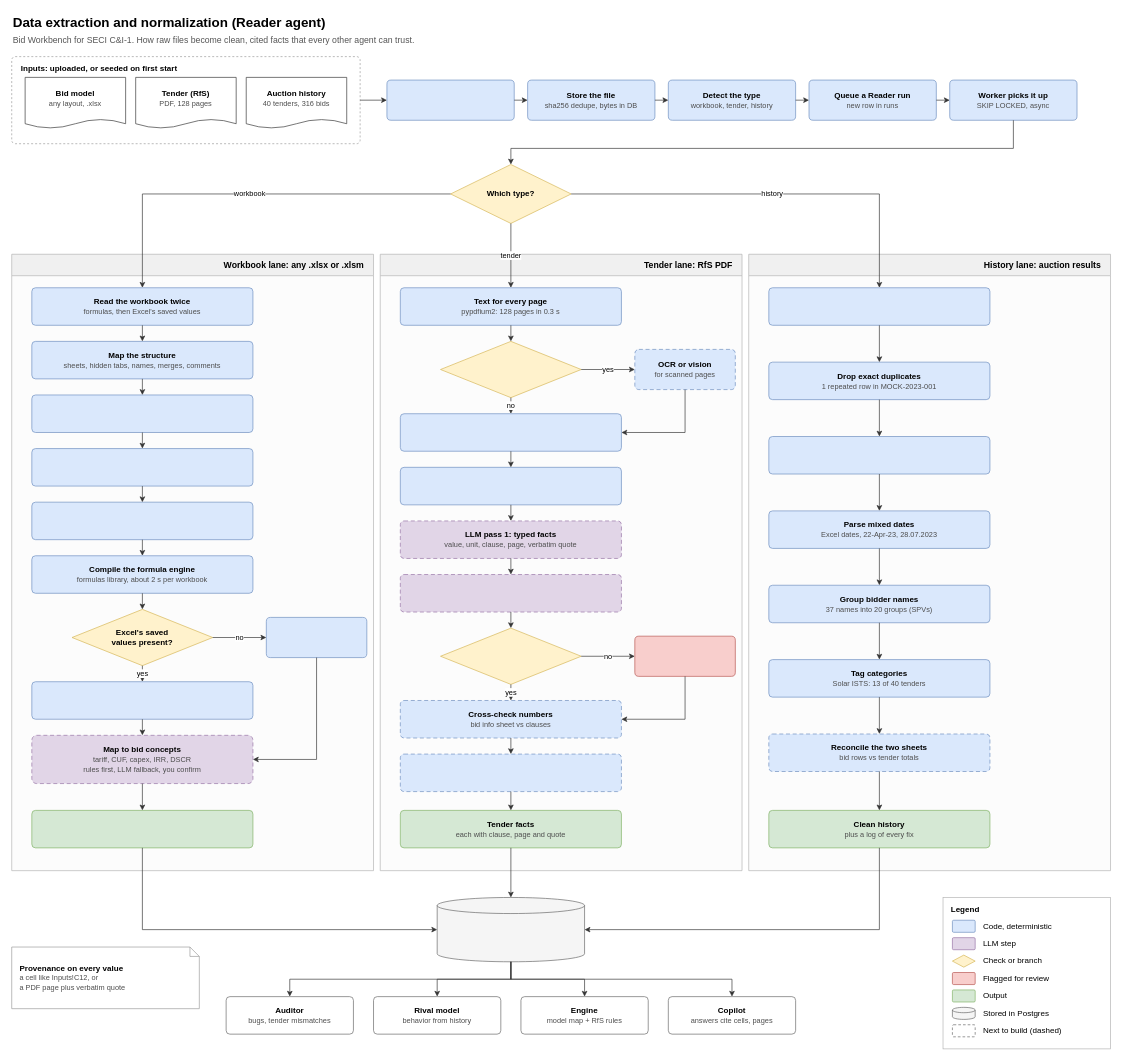
Some shapes in this 1122 by 1061 pixel diagram are drawn without their labels. Each missing label, with the centre of its shape:
Build the reference graph tokenize formulas, resolve named ranges: the point at 142,413
Cache by file hash offline mode replays it, no key: the point at 510,772
Classify cells inputs, outputs, unused numbers, legacy tabs: the point at 142,520
Fewer than 50 characters?: the point at 510,369
Fix units paise to INR in MOCK-2023-008: the point at 879,455
Keep the binding core Sections 1 to 6 + Annex B, about 43k tokens: the point at 510,486
Label every number row label on the left, unit column: the point at 142,467
LLM pass 2: unusual clauses ALMM exemption, SEZ risk, GIB rule: the point at 510,593
Map page numbers printed page = PDF page minus 1: the point at 510,432
Mark unverified shown in amber: the point at 684,655
Model map the workbook, understood: the point at 142,829
Parity check recompute all, compare: 551 of 551 match: the point at 142,700
Quote found on the cited page?: the point at 510,655
Read Tenders and Bids pandas, both sheets: the point at 879,306
Recalc only nothing to compare: the point at 316,637
Saved as the run's result runs table, JSONB, write-once: the point at 511,929
Upload API POST /api/documents: the point at 450,99
